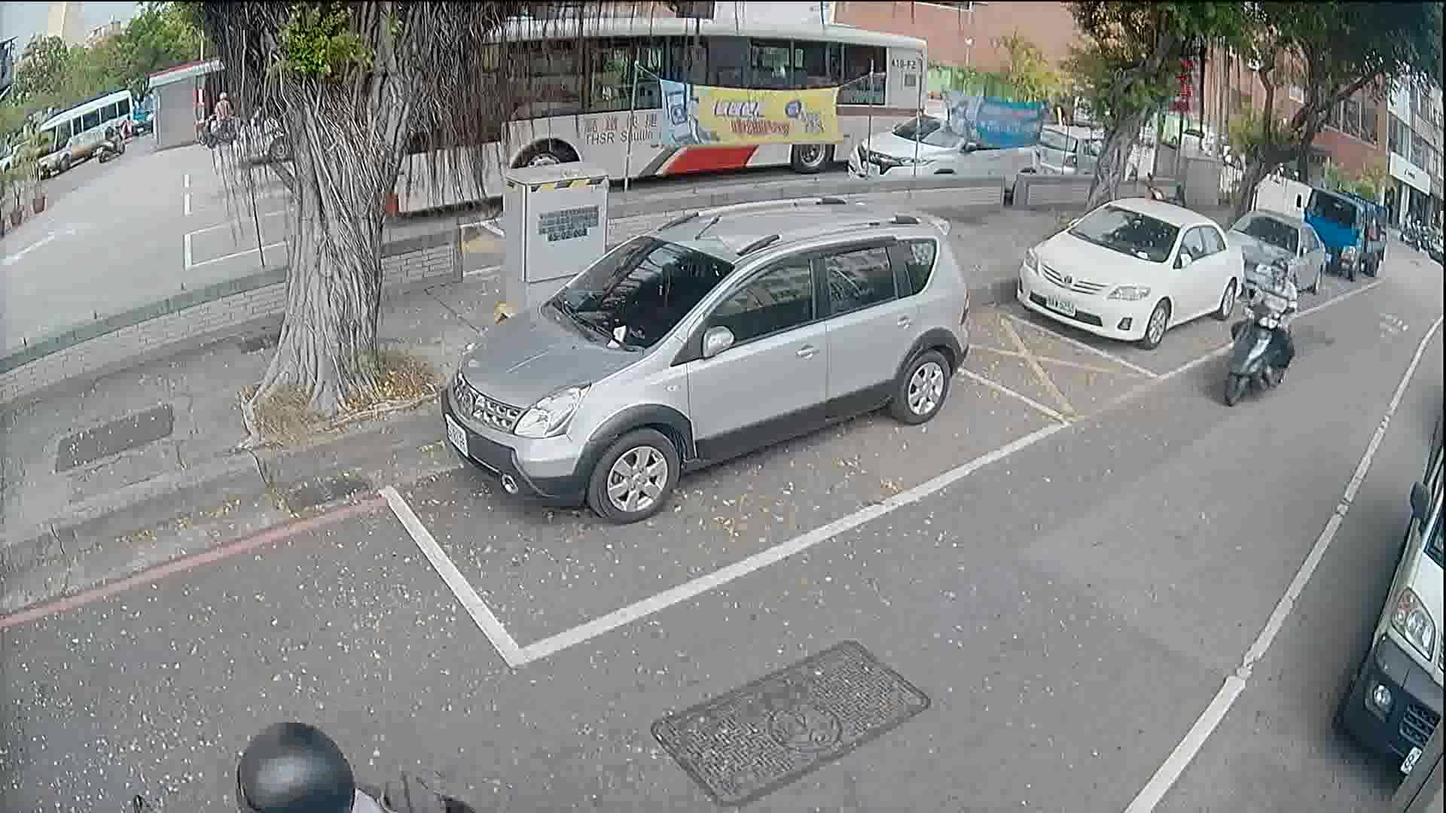person: (227, 712, 389, 811), (1220, 254, 1302, 385), (208, 85, 232, 143), (99, 117, 124, 152)
